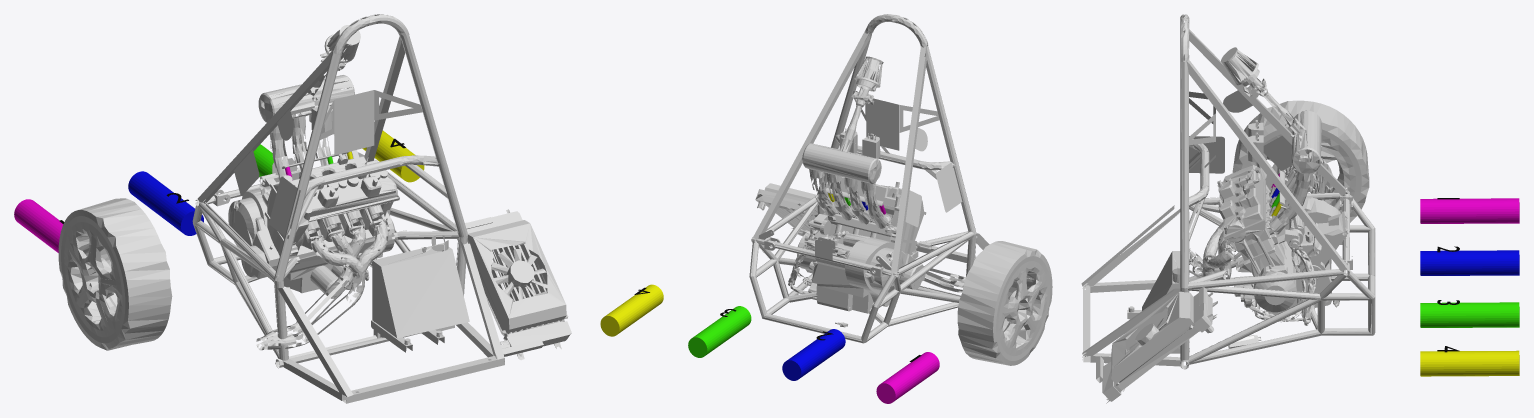
File: Bicos injetores.glb
The picture shows the model from 3 angles, left to right: view 1: azimuth 30°, elevation 25°; view 2: azimuth 150°, elevation 25°; view 3: azimuth 270°, elevation 25°; orthographic projection. The views are drawn at different scales.
Visible parts, largest first — view 1: Motor Etc, Chassis Trazeiro, Roda, indt roda.008, indt roda.009, Elet.003, indt roda.006; view 2: Chassis Trazeiro, Motor Etc, Roda, indt roda.009, indt roda.007, indt roda.008, indt roda.006, Elet.002; view 3: Motor Etc, Chassis Trazeiro, Roda, indt roda.006, indt roda.008, indt roda.009, indt roda.007, Elet.002, Elet.003.
Part boxes in pixels (x1,y1,x2,y2): Motor Etc: [228, 25, 571, 360]; Chassis Trazeiro: [192, 14, 543, 403]; Roda: [58, 198, 172, 350]; indt roda.008: [128, 171, 203, 235]; indt roda.009: [14, 199, 63, 252]; Elet.003: [491, 249, 547, 299]; indt roda.006: [362, 130, 424, 182]; Chassis Trazeiro: [749, 14, 989, 343]; Motor Etc: [755, 56, 965, 313]; Roda: [957, 241, 1052, 365]; indt roda.009: [876, 352, 939, 403]; indt roda.007: [688, 306, 751, 357]; indt roda.008: [782, 329, 845, 380]; indt roda.006: [600, 284, 663, 336]; Elet.002: [839, 128, 880, 158]; Motor Etc: [1102, 47, 1348, 403]; Chassis Trazeiro: [1081, 14, 1375, 382]; Roda: [1232, 100, 1369, 222]; indt roda.006: [1420, 350, 1519, 376]; indt roda.008: [1420, 250, 1519, 275]; indt roda.009: [1420, 198, 1519, 223]; indt roda.007: [1420, 302, 1519, 327]; Elet.002: [1248, 120, 1263, 167]; Elet.003: [1129, 318, 1166, 352].
Bounding box in the file's own units: 12.12 × 9.91 × 12.39.
